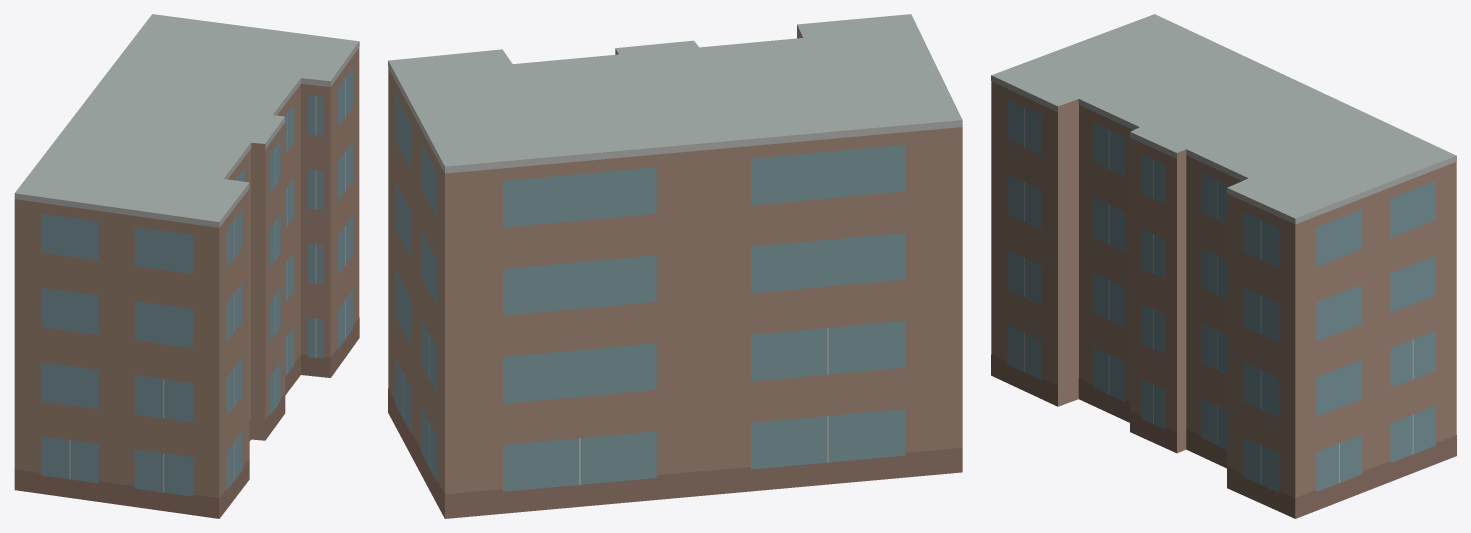
Rendered from survey-upis-32586052.glb.
3 views of the same model, side by side, from view 1: azimuth 30°, elevation 25°; view 2: azimuth 150°, elevation 25°; view 3: azimuth 270°, elevation 25° (orthographic). The views are drawn at different scales.
Parts seen in each view (by area): view 1: survey-upis-32586052.tmp; view 2: survey-upis-32586052.tmp; view 3: survey-upis-32586052.tmp.
Part boxes in pixels (x1=…): survey-upis-32586052.tmp: x1=14, y1=14, x2=359, y2=518; survey-upis-32586052.tmp: x1=388, y1=14, x2=962, y2=518; survey-upis-32586052.tmp: x1=991, y1=14, x2=1456, y2=518.
Size of the model in its own units: 18.27 by 12.5 by 17.57.
